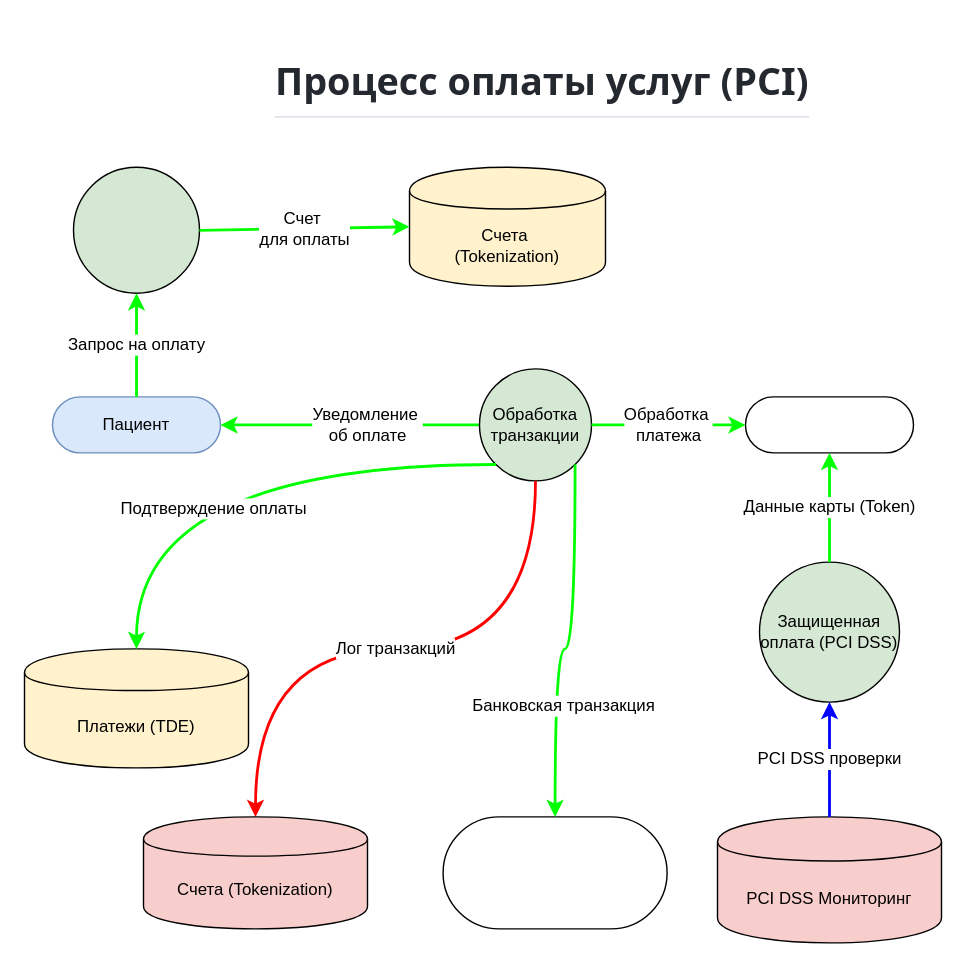
This 966x967 diagram has some shape labels left out. Each missing label, with the centre of its shape:
АБС Банковская система: pixel 554 872
Платежный шлюз: pixel 828 424
Формирование счета: pixel 136 229
